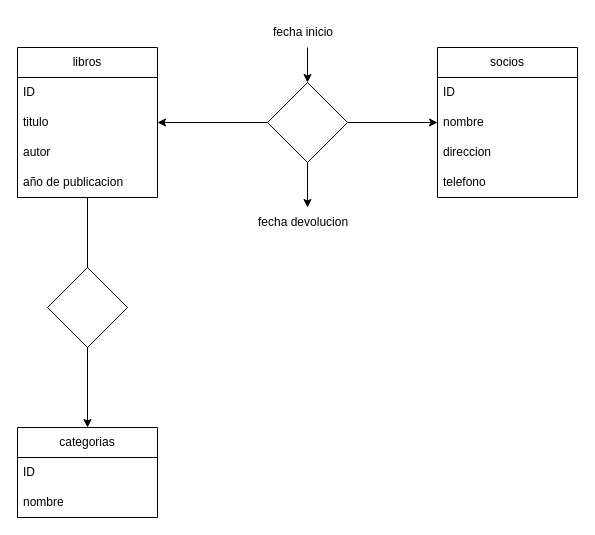
Some shapes in this 595 by 535 pixel diagram are drawn without their labels. The box of each missing label's shape, as (x1, y1, x2, y2) in pixels:
Pertenece: (46, 266, 128, 348)
Prestamos: (266, 82, 348, 162)
